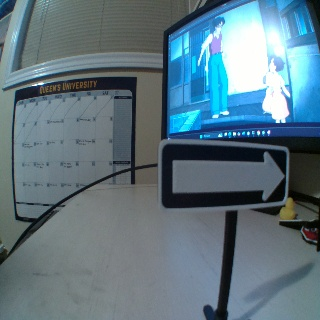sign_oneway_right: (158, 138, 286, 207)
